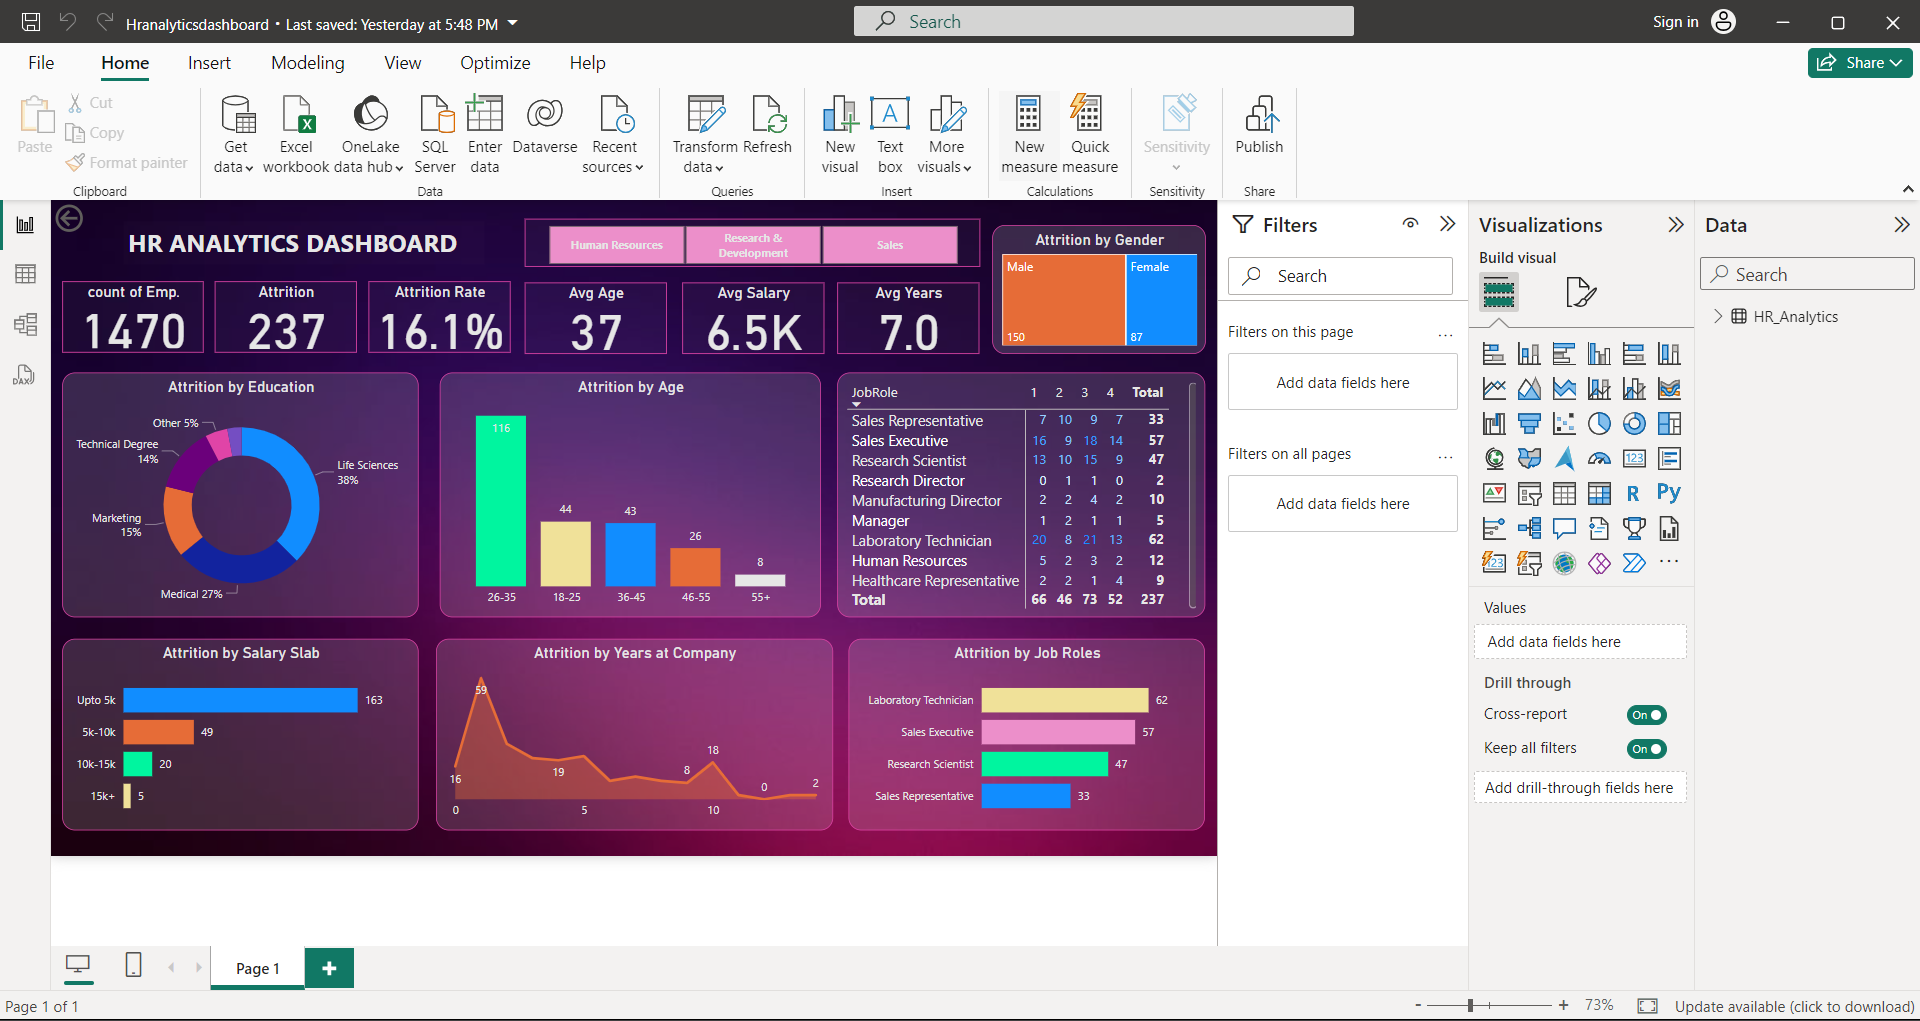

This screenshot's page, from the dashboard's own definition file:
{"tool":"powerbi","page":{"name":"Page 1","canvas":[1280,720],"ordinal":0},"visuals":[{"type":"card","title":"count of Emp.","fields":{"Values":["Sum(HR_Analytics.EmployeeCount)"]},"box":[12.9,88.6,155,78],"z":0},{"type":"card","title":"Attrition","fields":{"Values":["Sum(HR_Analytics.AttritionCount)"]},"box":[180,88.6,155.7,78.6],"z":1},{"type":"card","title":"Attrition Rate","fields":{"Values":["HR_Analytics.AttritionRate"]},"box":[348.6,88.6,155.7,78.6],"z":2},{"type":"card","title":"Avg Age","fields":{"Values":["Avg(HR_Analytics.Age)"]},"box":[520,90,155.7,78.6],"z":3},{"type":"actionButton","box":[0,0,100,40],"z":4},{"type":"card","title":"Avg Salary","fields":{"Values":["Avg(HR_Analytics.MonthlyIncome)"]},"box":[692.9,90,155.7,78.6],"z":5},{"type":"card","title":"Avg Years","fields":{"Values":["Avg(HR_Analytics.YearsAtCompany)"]},"box":[862.9,90,155.7,78.6],"z":6},{"type":"donutChart","title":"Attrition  by Education","fields":{"Category":["HR_Analytics.EducationField"],"Y":["Sum(HR_Analytics.AttritionCount)"]},"box":[12.9,190,391.4,268.6],"z":7},{"type":"columnChart","title":"Attrition by Age","fields":{"Category":["HR_Analytics.AgeGroup"],"Y":["Sum(HR_Analytics.AttritionCount)"]},"box":[427.1,190,418.6,268.6],"z":8},{"type":"pivotTable","fields":{"Rows":["HR_Analytics.JobRole"],"Columns":["HR_Analytics.JobSatisfaction"],"Values":["Sum(HR_Analytics.AttritionCount)"]},"box":[862.9,190,404.3,268.6],"z":9},{"type":"barChart","title":"Attrition by Salary Slab","fields":{"Category":["HR_Analytics.SalarySlab"],"Y":["Sum(HR_Analytics.AttritionCount)"]},"box":[12.9,481.4,391.4,210],"z":10},{"type":"barChart","title":"Attrition by Job  Roles","fields":{"Category":["HR_Analytics.JobRole"],"Y":["Sum(HR_Analytics.AttritionCount)"]},"box":[875.7,481.4,391.4,210],"z":11},{"type":"areaChart","title":"Attrition by Years at Company","fields":{"Category":["HR_Analytics.YearsAtCompany"],"Y":["Sum(HR_Analytics.AttritionCount)"]},"box":[422.9,481.4,435.7,210],"z":12},{"type":"treemap","title":"Attrition by Gender","fields":{"Group":["HR_Analytics.Gender"],"Values":["Sum(HR_Analytics.AttritionCount)"]},"box":[1032.9,27.1,234.3,141.4],"z":13},{"type":"slicer","fields":{"Values":["HR_Analytics.Department"]},"box":[520,20,500,52.9],"z":14},{"type":"textbox","box":[80,22.9,395.7,47.1],"z":15}]}

Visuals, with their boxes on the page's 1280x720 design canvas (x1, y1, x2, y2). These are canvas units, not pixel positions in the 1920x1021 screenshot, which may show the page scaled, cropped or inside an application window:
"count of Emp." card: 13 89 168 167
"Attrition" card: 180 89 336 167
"Attrition Rate" card: 349 89 504 167
"Avg Age" card: 520 90 676 169
actionButton: 0 0 100 40
"Avg Salary" card: 693 90 849 169
"Avg Years" card: 863 90 1019 169
"Attrition  by Education" donutChart: 13 190 404 459
"Attrition by Age" columnChart: 427 190 846 459
pivotTable - HR_Analytics.JobRole x HR_Analytics.JobSatisfaction: 863 190 1267 459
"Attrition by Salary Slab" barChart: 13 481 404 691
"Attrition by Job  Roles" barChart: 876 481 1267 691
"Attrition by Years at Company" areaChart: 423 481 859 691
"Attrition by Gender" treemap: 1033 27 1267 168
slicer - HR_Analytics.Department: 520 20 1020 73
textbox: 80 23 476 70
